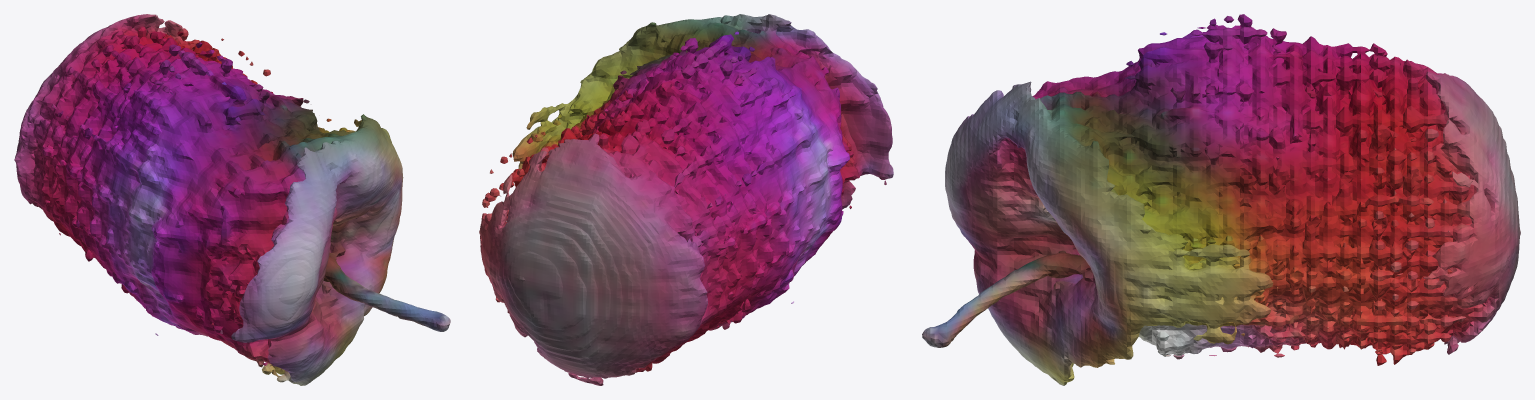
3 views of the same model, side by side, from view 1: azimuth 30°, elevation 25°; view 2: azimuth 150°, elevation 25°; view 3: azimuth 270°, elevation 25° (orthographic). The views are drawn at different scales.
Parts seen in each view (by area): view 1: world; view 2: world; view 3: world.
Boxes of the visible parts, x1,y1,x2,y2 form: world: [14, 14, 450, 385]; world: [479, 14, 893, 385]; world: [922, 14, 1520, 385].
Size of the model in its own units: 0.6116 by 0.5967 by 0.9769.
